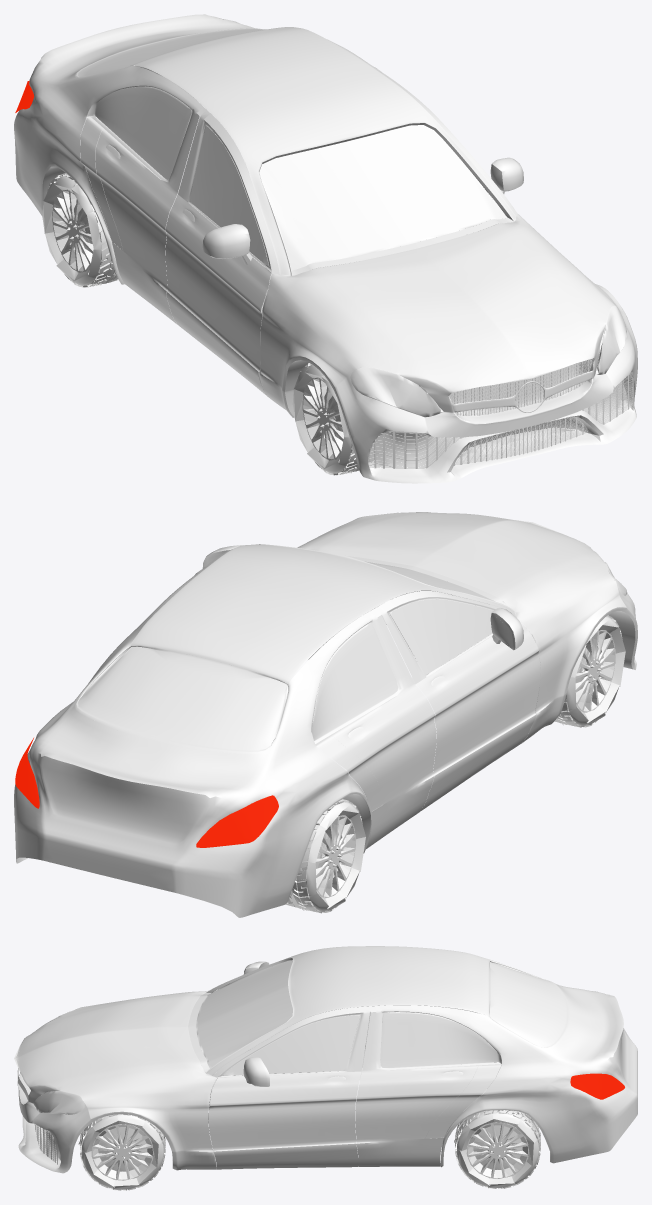
File: amg.glb
3 views of the same model, one above another, from view 1: azimuth 30°, elevation 25°; view 2: azimuth 150°, elevation 25°; view 3: azimuth 270°, elevation 25° (orthographic). The views are drawn at different scales.
Visible parts, largest first — view 1: body, wheel-back-right, wheel-front-right; view 2: body, wheel-back-right, wheel-front-right; view 3: body, wheel-back-left, wheel-front-left.
Boxes of the visible parts, x1,y1,x2,y2 form: body: (14,14,637,483); wheel-back-right: (42,173,118,287); wheel-front-right: (292,363,359,475); body: (14,512,637,917); wheel-back-right: (285,799,365,913); wheel-front-right: (554,615,625,727); body: (14,946,637,1173); wheel-back-left: (454,1110,540,1188); wheel-front-left: (78,1114,165,1190).
Size of the model in its own units: 2.03 by 1.43 by 4.75.
